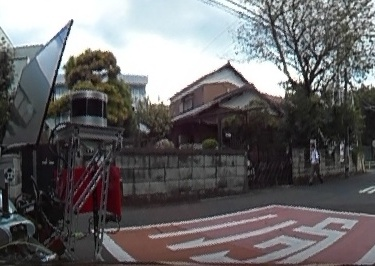person: (309, 142, 323, 182)
